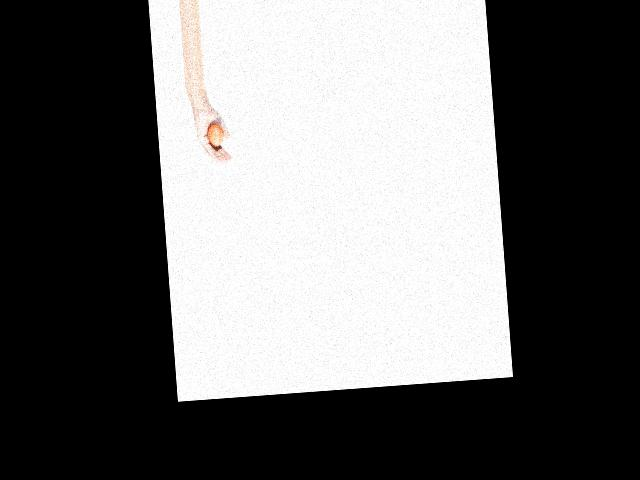egg: (207, 124, 224, 146)
